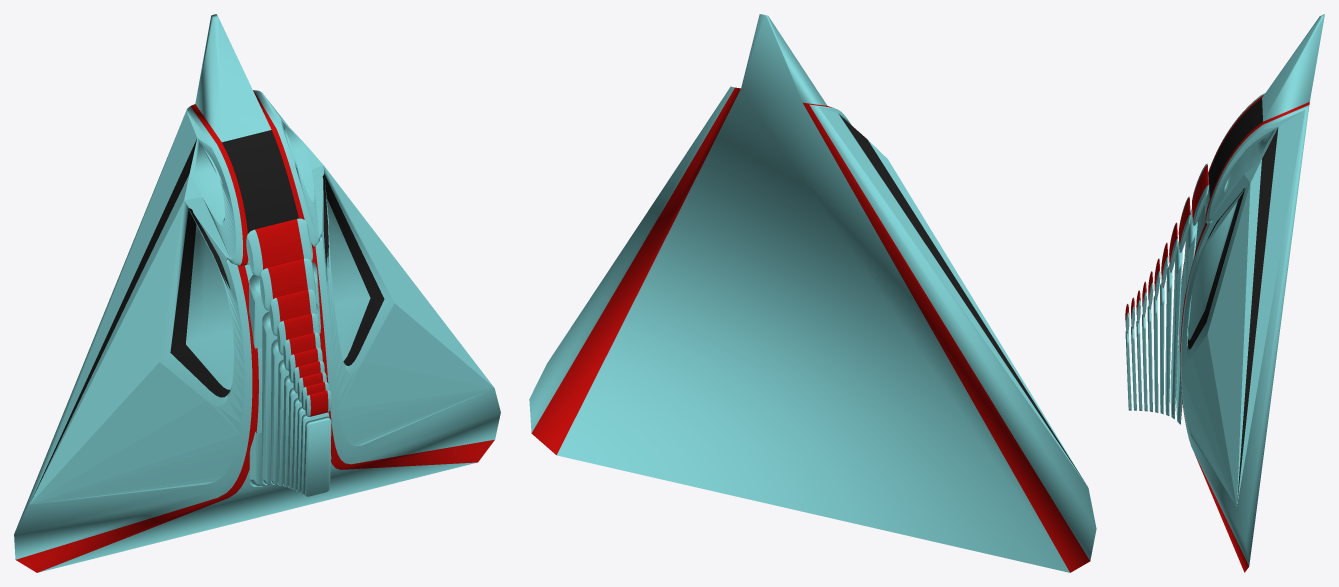
File: space2.glb
3 views of the same model, side by side, from view 1: azimuth 30°, elevation 25°; view 2: azimuth 150°, elevation 25°; view 3: azimuth 270°, elevation 25° (orthographic). The views are drawn at different scales.
Visible parts, largest first — view 1: Text; view 2: Text; view 3: Text.
Part boxes in pixels (x1,y1,x2,y2): Text: [14, 14, 500, 572]; Text: [529, 14, 1096, 572]; Text: [1125, 14, 1324, 572].
Bounding box in the file's own units: 4.54 × 4.16 × 1.66.
